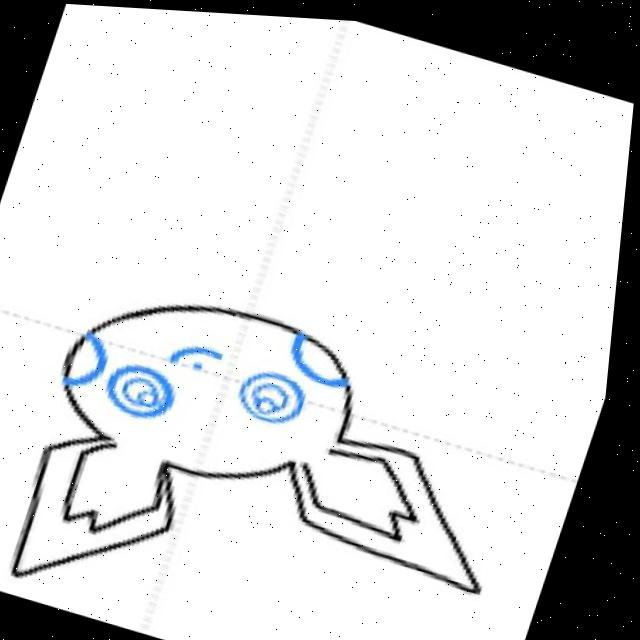pichu: (0, 245, 574, 640)
